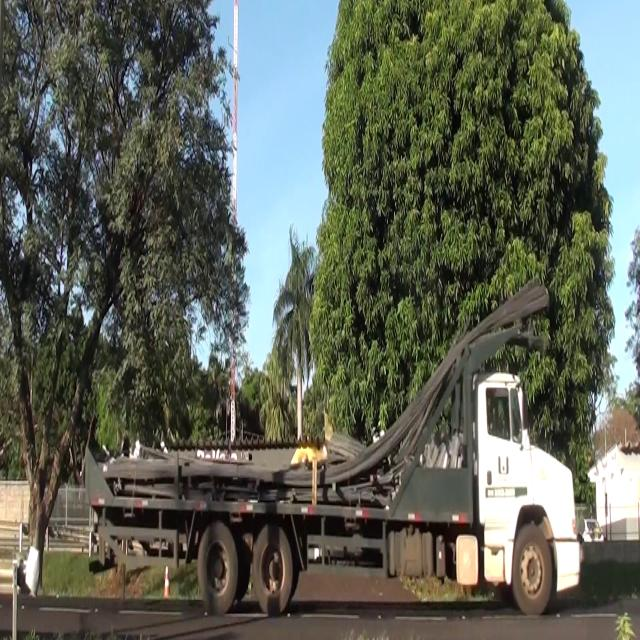-axle: (252, 523, 295, 614), (199, 524, 240, 613), (512, 528, 552, 614)
